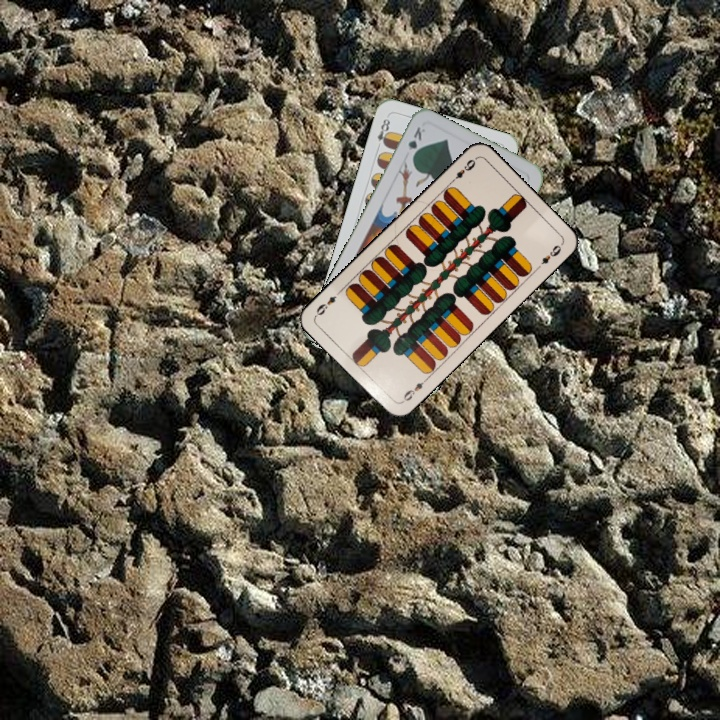E8: (373, 114, 393, 152)
E9: (398, 374, 431, 405), (446, 155, 478, 186)
GK: (404, 122, 428, 162)
